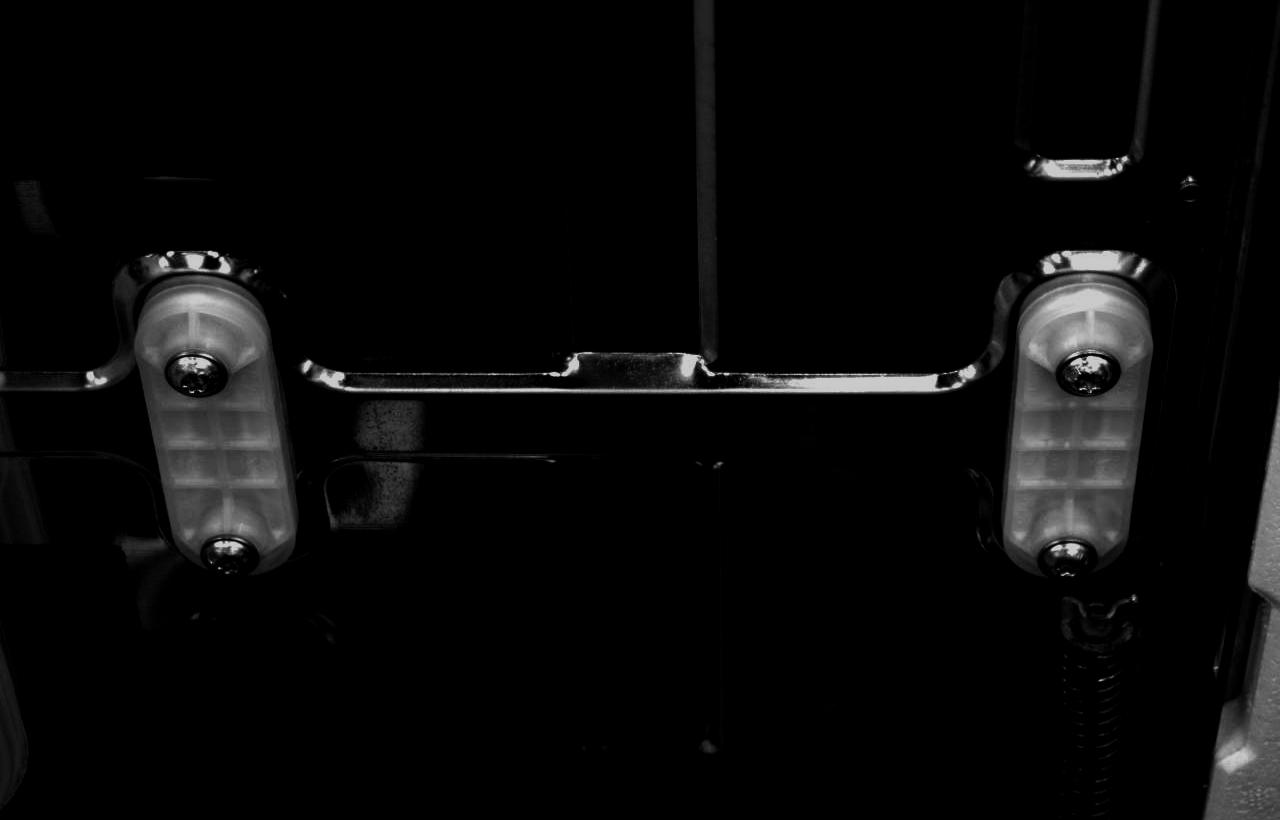vida-ok: (159, 344, 230, 411), (1054, 344, 1121, 411), (1033, 525, 1099, 584), (194, 527, 260, 585)
